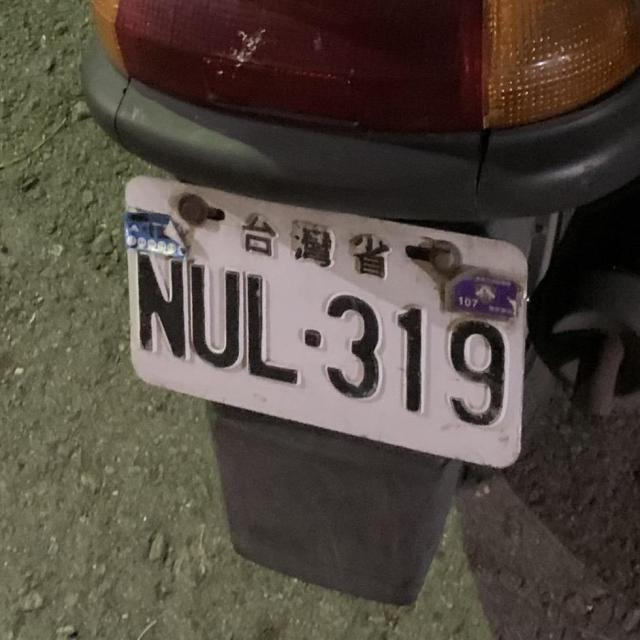W: (90, 164, 546, 486)
